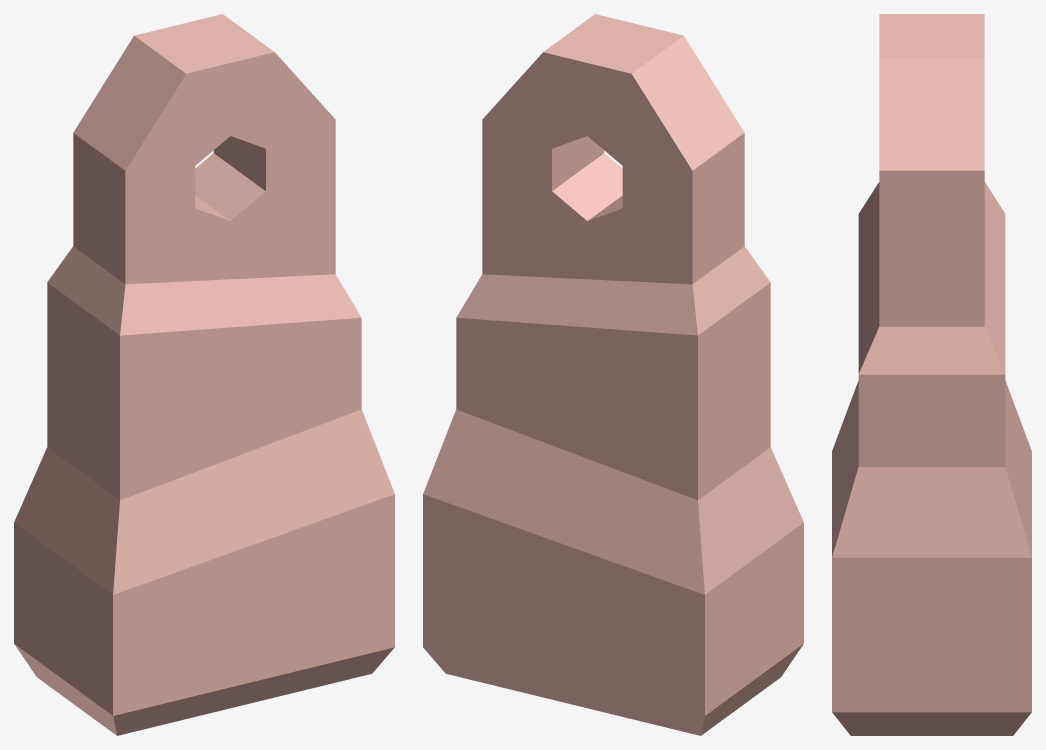
The model's file is Mega_Asset_s_Pack_Cube_352.FBX.
3 views of the same model, side by side, from view 1: azimuth 30°, elevation 25°; view 2: azimuth 150°, elevation 25°; view 3: azimuth 270°, elevation 25° (orthographic).
Visible parts, largest first — view 1: Mega_Asset_s_Pack_Cube_352; view 2: Mega_Asset_s_Pack_Cube_352; view 3: Mega_Asset_s_Pack_Cube_352.
Boxes of the visible parts, x1,y1,x2,y2 form: Mega_Asset_s_Pack_Cube_352: (14,14,394,735); Mega_Asset_s_Pack_Cube_352: (423,14,803,735); Mega_Asset_s_Pack_Cube_352: (832,14,1031,735).
Size of what is drawn, in the model's own units: 137 by 83.57 by 294.
